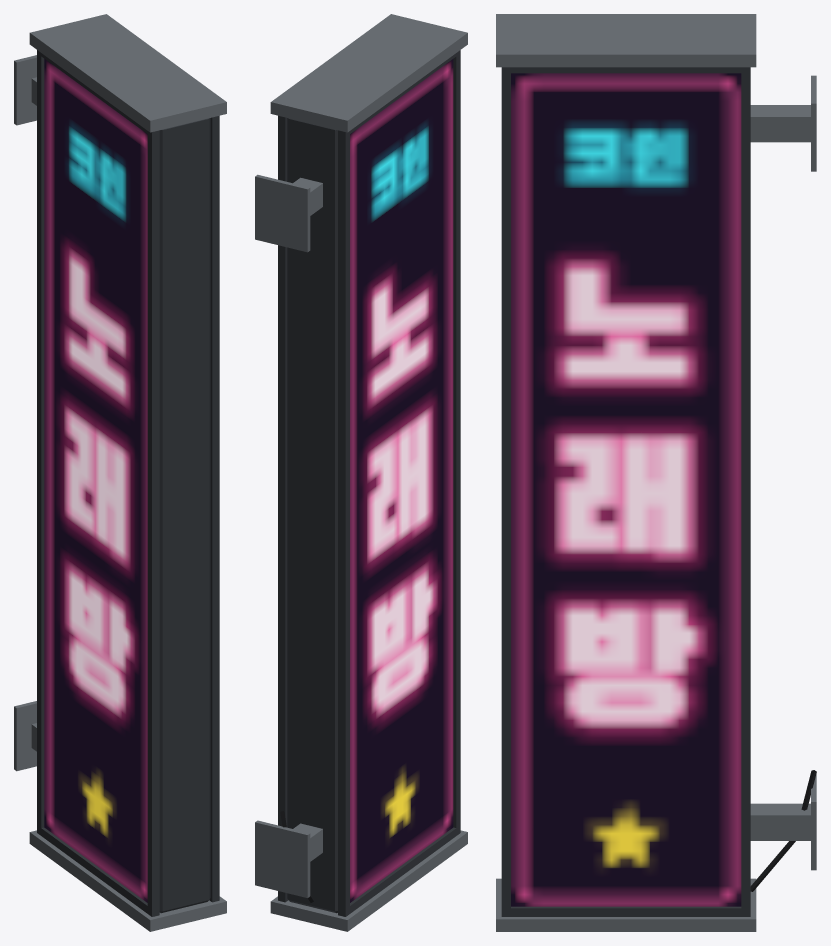
The model's file is SC_Shop_Projecting_Sign_Karaoke.gltf.
3 renders of one model, left to right at view 1: azimuth 30°, elevation 25°; view 2: azimuth 150°, elevation 25°; view 3: azimuth 270°, elevation 25°, orthographic. The views are drawn at different scales.
Visible parts, largest first — view 1: SC_Shop_Projecting_Sign_Karaoke; view 2: SC_Shop_Projecting_Sign_Karaoke; view 3: SC_Shop_Projecting_Sign_Karaoke.
Part boxes in pixels (x1,y1,x2,y2): SC_Shop_Projecting_Sign_Karaoke: (14, 14, 226, 931); SC_Shop_Projecting_Sign_Karaoke: (255, 14, 467, 931); SC_Shop_Projecting_Sign_Karaoke: (496, 14, 816, 931).
Bounding box in the file's own units: 0.204 × 2.06 × 0.6828.
Materials: 2 (2 with a texture image).
